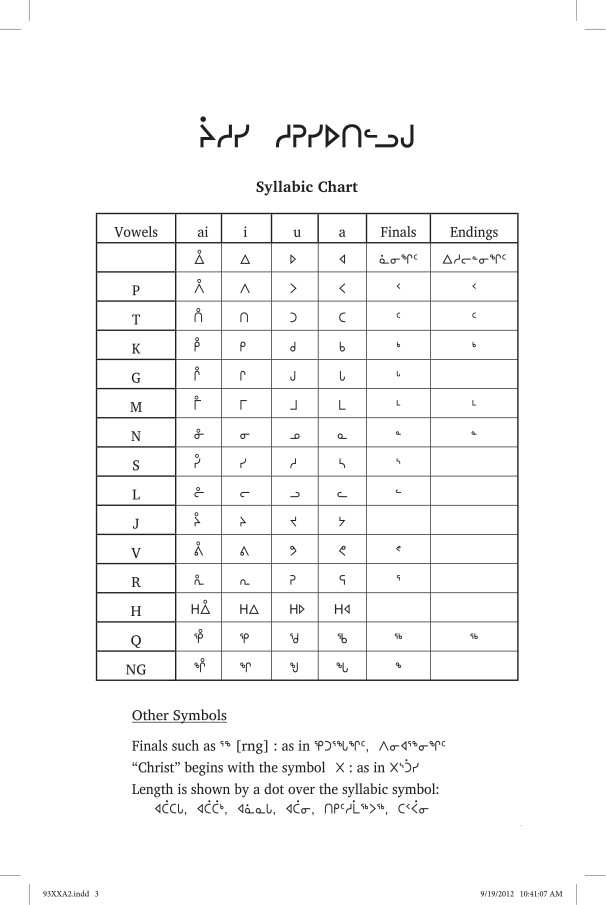inuktitut: (191, 108, 422, 153)
latin: (249, 175, 362, 197)
